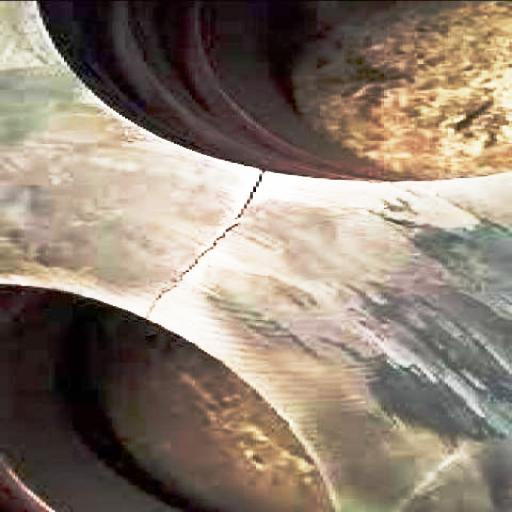crack: (121, 163, 287, 327)
